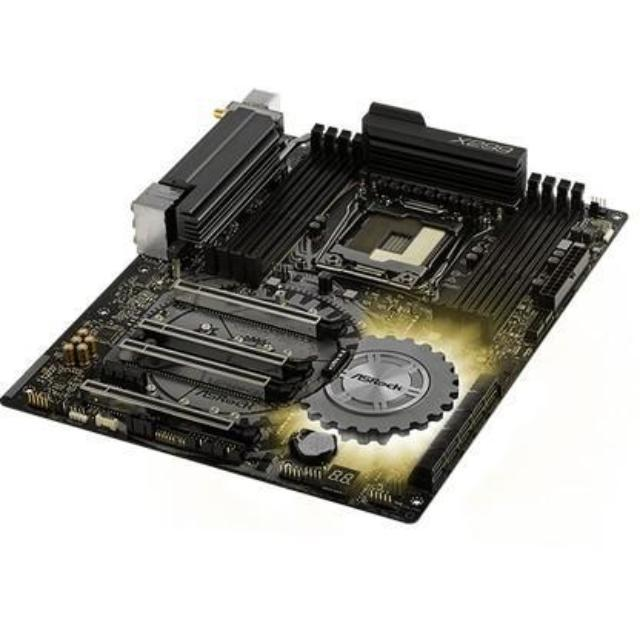Mainboard: (0, 77, 629, 523)
